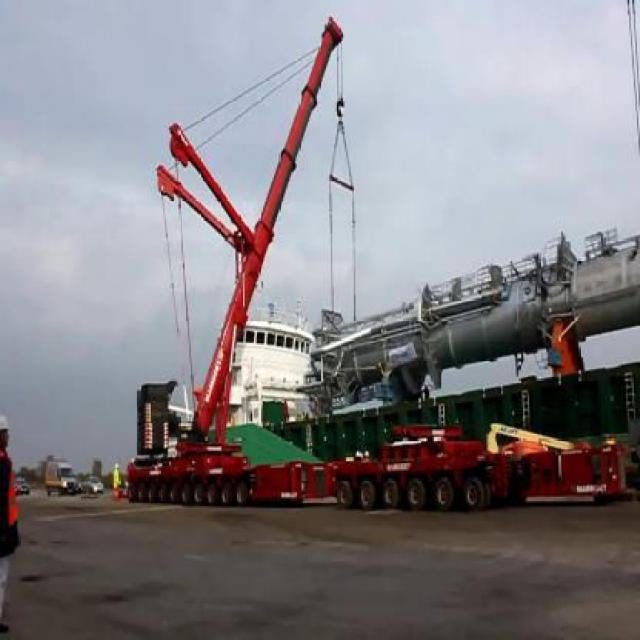Mobile Crane: (122, 18, 347, 500)
